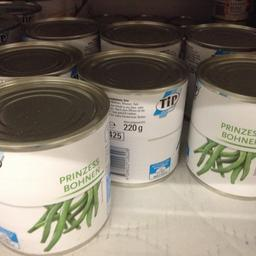beans: (0, 79, 112, 246), (188, 49, 254, 200)
